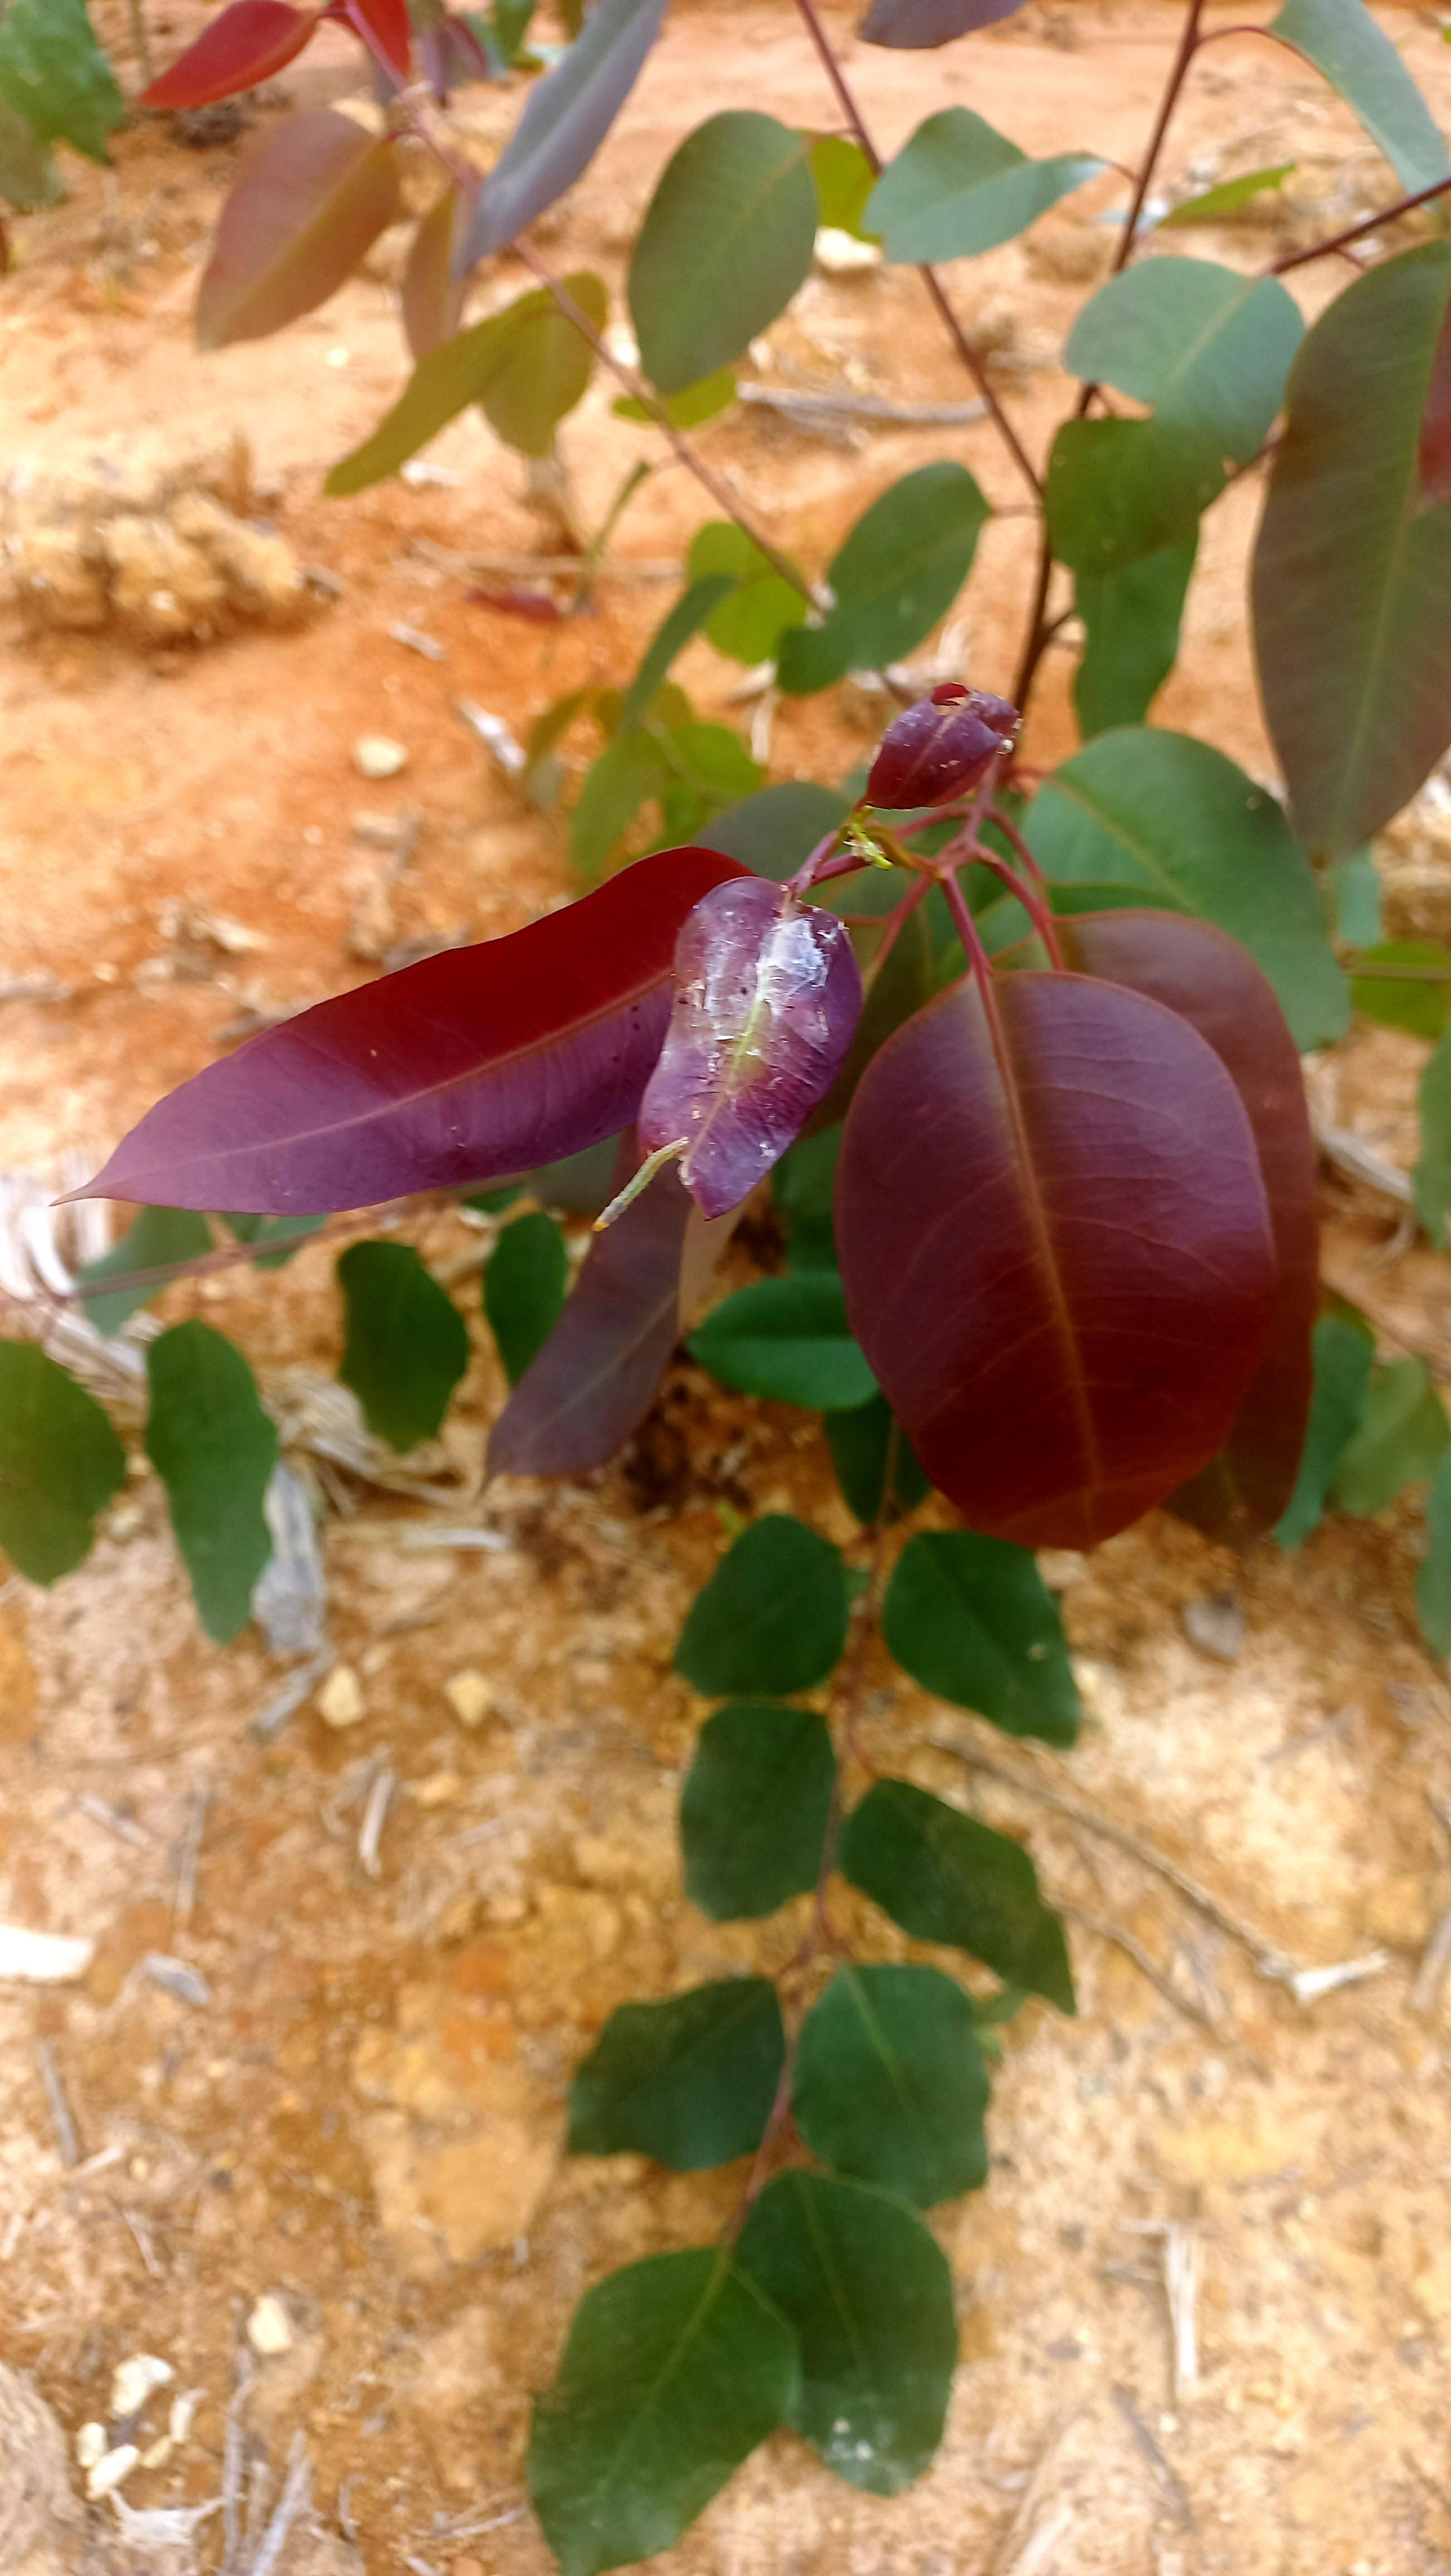Leaf Roller - Insect: (591, 1138, 688, 1233)
Leaf Roller - Leaf: (632, 872, 855, 1221), (865, 683, 1016, 807)
